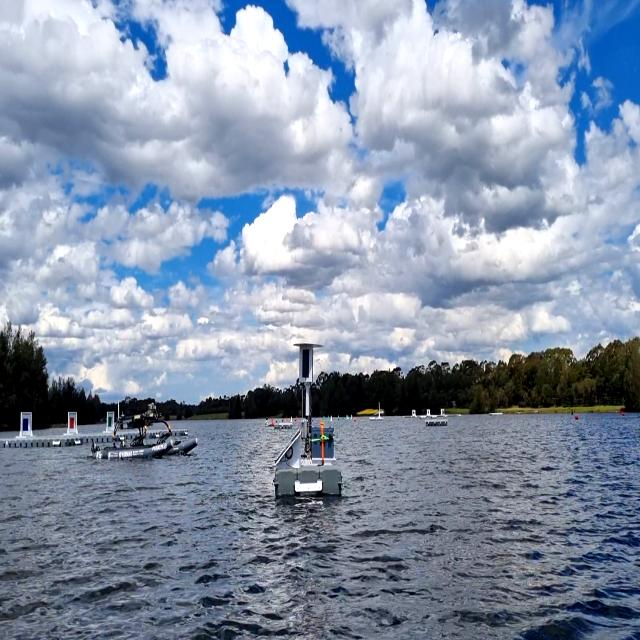led: (300, 348, 312, 380)
